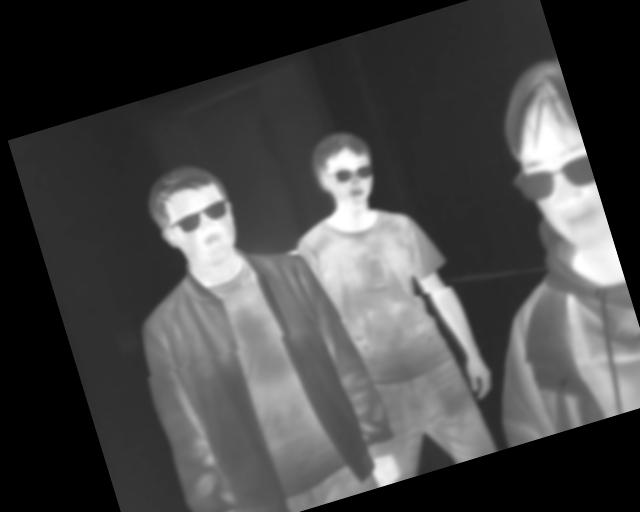face: (486, 55, 611, 257), (139, 154, 248, 280), (302, 123, 387, 220)
